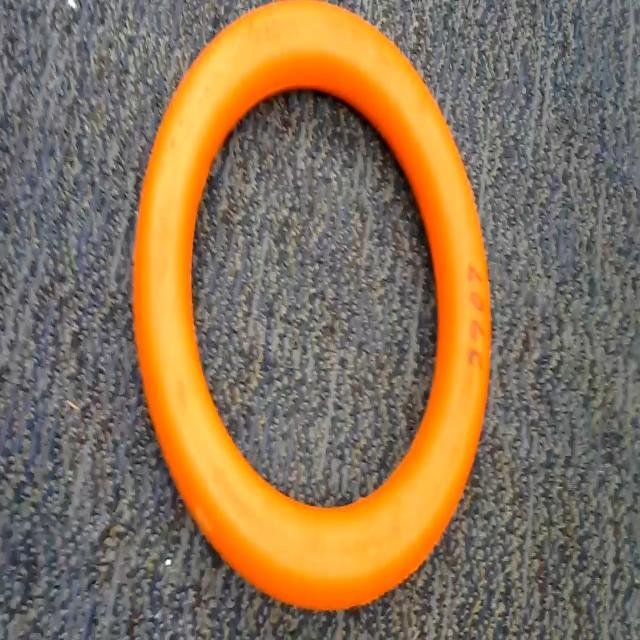note: (127, 0, 514, 613)
